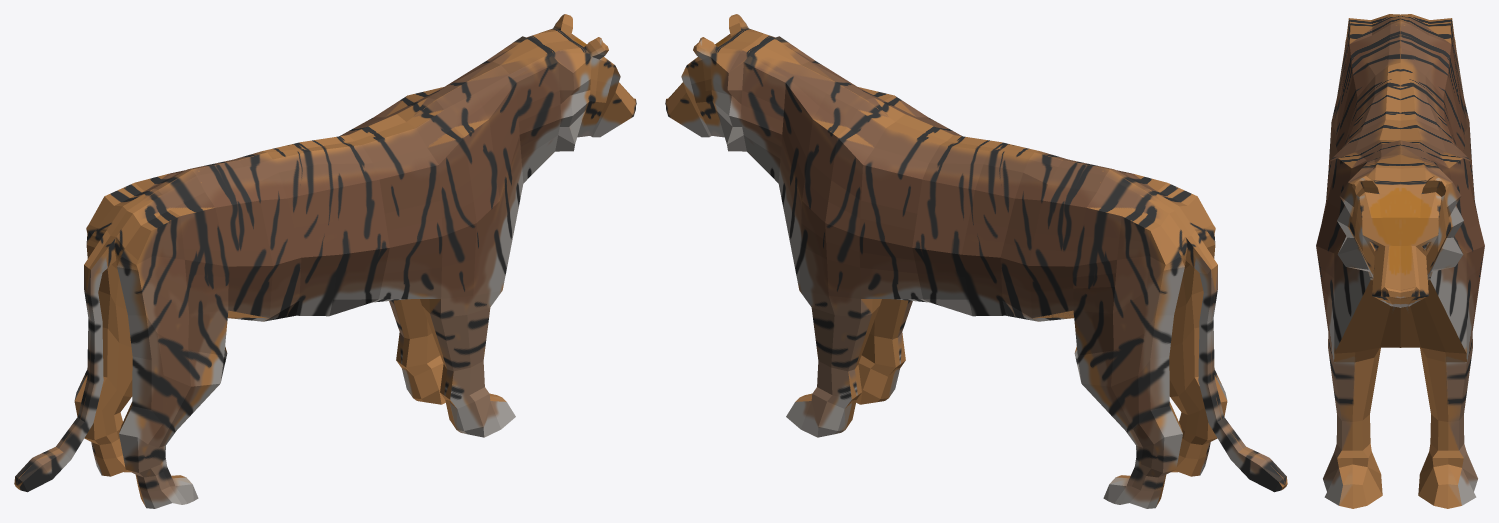
The model's file is 202409working_low_tiger.fbx.
The picture shows the model from 3 angles, left to right: view 1: azimuth 30°, elevation 25°; view 2: azimuth 150°, elevation 25°; view 3: azimuth 270°, elevation 25°; orthographic projection. The views are drawn at different scales.
Parts seen in each view (by area): view 1: Cube.004; view 2: Cube.004; view 3: Cube.004.
Boxes of the visible parts, left/top/right/bottom form: Cube.004: left=14, top=14, right=636, bottom=508; Cube.004: left=665, top=14, right=1287, bottom=508; Cube.004: left=1316, top=14, right=1484, bottom=508.
Size of the model in its own units: 135 by 74.41 by 29.33.
Materials: 1 (1 with a texture image).
